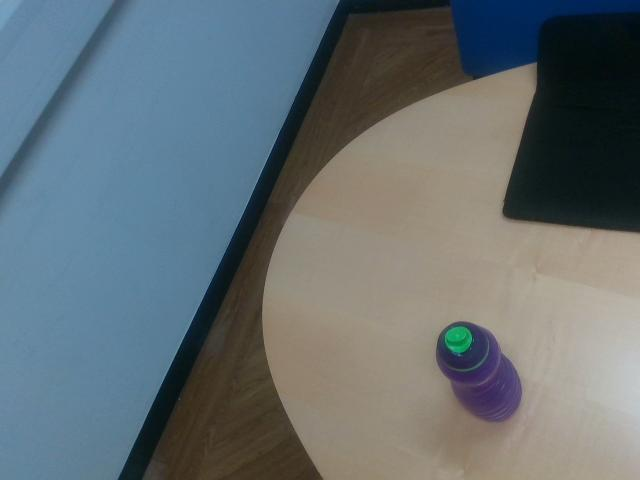bottle: (436, 320, 522, 423)
